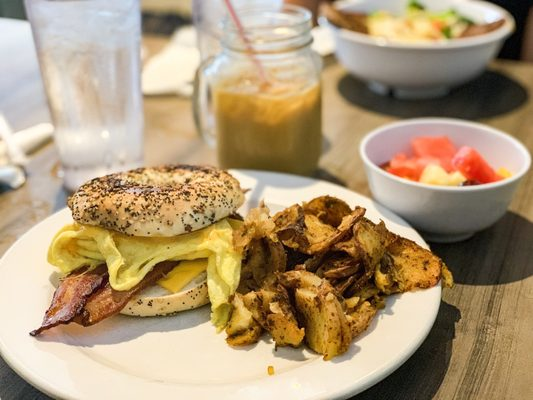pizza: (23, 0, 145, 195), (192, 1, 324, 177)
soup: (37, 162, 248, 332)
sushi: (359, 117, 532, 243), (322, 0, 516, 101)
